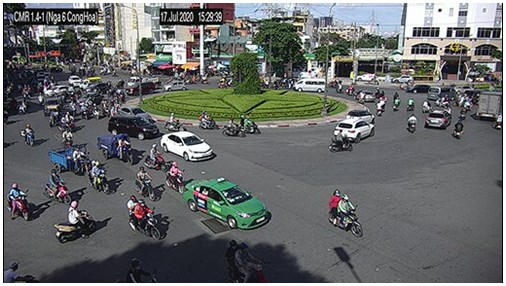xe_ba_gac: (98, 134, 135, 166), (48, 147, 88, 173)
xe_hoi: (183, 177, 267, 229), (160, 132, 212, 161), (109, 115, 159, 141), (334, 120, 376, 143), (118, 106, 153, 122), (426, 110, 449, 131), (126, 83, 154, 95), (86, 83, 114, 94), (347, 111, 373, 122), (46, 84, 71, 95), (162, 80, 186, 91), (354, 72, 376, 83), (391, 74, 415, 84), (68, 75, 81, 83)
xe_khach: (292, 79, 325, 92)
xe_may: (226, 239, 269, 282), (125, 194, 161, 242), (328, 188, 363, 237), (56, 200, 95, 243), (118, 257, 162, 283), (43, 169, 72, 205), (85, 160, 109, 195), (8, 183, 29, 222), (134, 167, 156, 202), (4, 260, 38, 282), (142, 143, 168, 171), (165, 159, 185, 194), (328, 129, 354, 152), (222, 117, 245, 139), (240, 114, 260, 135), (163, 112, 184, 131), (199, 111, 220, 130), (21, 125, 35, 147), (452, 120, 463, 140), (61, 127, 70, 148), (407, 113, 416, 134), (47, 109, 57, 127), (420, 100, 431, 114), (68, 100, 77, 115), (21, 87, 31, 100), (392, 96, 400, 111), (357, 90, 365, 105), (494, 115, 502, 130), (406, 97, 415, 110), (82, 105, 90, 119), (37, 91, 44, 107), (102, 102, 109, 117), (18, 100, 26, 113), (375, 102, 383, 115), (345, 84, 354, 95), (92, 104, 99, 118), (118, 91, 126, 103), (373, 88, 380, 101), (444, 103, 450, 114), (336, 80, 341, 93), (462, 107, 467, 120), (218, 81, 226, 89), (381, 90, 386, 102)
